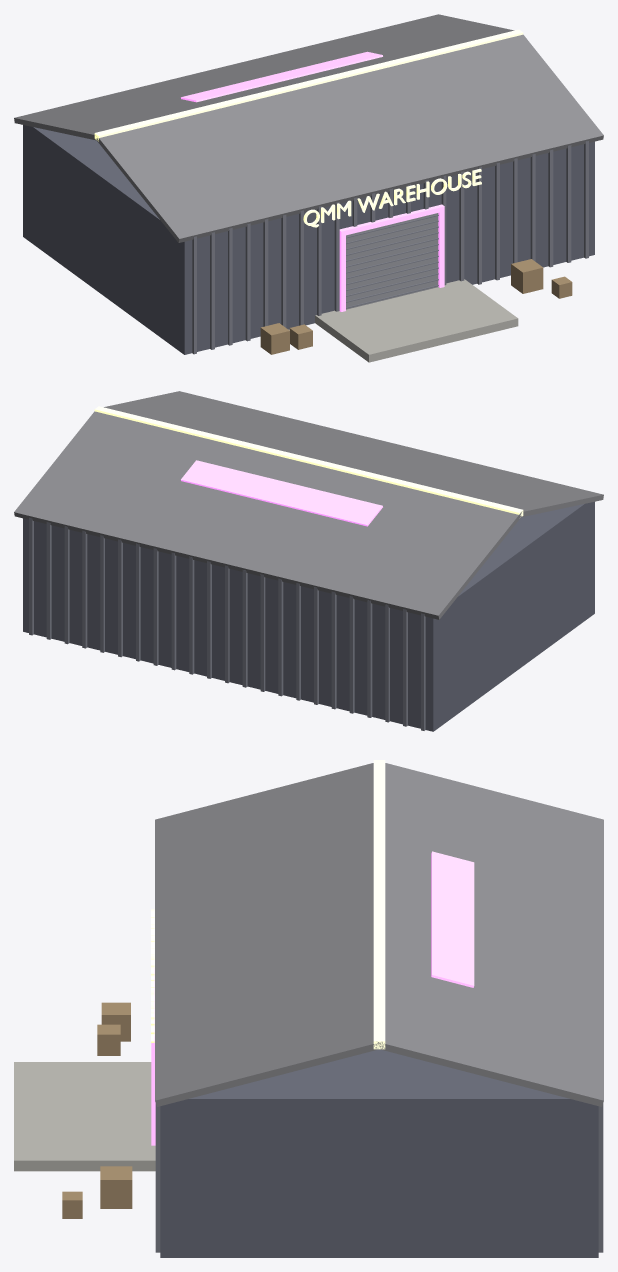
File: qmm_warehouse.glb
3 views of the same model, one above another, from view 1: azimuth 30°, elevation 25°; view 2: azimuth 150°, elevation 25°; view 3: azimuth 270°, elevation 25° (orthographic). The views are drawn at different scales.
Visible parts, largest first — view 1: WhRoof-1, WhBody, WhRoof1, WhDock, WhDoor, WhRidge, WhSkylight, WhSign, WhCrate2, WhFrameTop, WhCrate0, WhRib21-15 (+19 smaller); view 2: WhBody, WhRoof1, WhRoof-1, WhSkylight, WhRidge, WhRib21+15, WhRib5+15, WhRib10+15, WhRib15+15, WhRib20+15, WhRib4+15, WhRib13+15 (+16 smaller); view 3: WhBody, WhRoof-1, WhRoof1, WhDock, WhSkylight, WhRidge, WhCrate2, WhRib22+15, WhRib22-15, WhCrate0, WhCrate1.
Part boxes in pixels (x1=…): WhRoof-1: x1=96, y1=34, x2=603, y2=242; WhBody: x1=23, y1=125, x2=594, y2=354; WhRoof1: x1=14, y1=14, x2=514, y2=140; WhDock: x1=315, y1=279, x2=518, y2=362; WhDoor: x1=346, y1=213, x2=438, y2=309; WhRidge: x1=94, y1=29, x2=523, y2=141; WhSkylight: x1=181, y1=51, x2=382, y2=102; WhSign: x1=303, y1=169, x2=481, y2=227; WhCrate2: x1=511, y1=259, x2=543, y2=293; WhFrameTop: x1=339, y1=204, x2=444, y2=235; WhCrate0: x1=260, y1=323, x2=289, y2=354; WhRib21-15: x1=566, y1=145, x2=571, y2=262; WhBody: x1=23, y1=501, x2=594, y2=731; WhRoof1: x1=14, y1=411, x2=522, y2=619; WhRoof-1: x1=104, y1=391, x2=603, y2=517; WhSkylight: x1=181, y1=460, x2=382, y2=526; WhRidge: x1=94, y1=406, x2=523, y2=517; WhRib21+15: x1=46, y1=522, x2=51, y2=639; WhRib5+15: x1=331, y1=591, x2=336, y2=709; WhRib10+15: x1=242, y1=570, x2=247, y2=687; WhRib15+15: x1=153, y1=548, x2=158, y2=665; WhRib20+15: x1=64, y1=526, x2=69, y2=644; WhRib4+15: x1=349, y1=596, x2=354, y2=713; WhRib13+15: x1=189, y1=556, x2=194, y2=674; WhBody: x1=160, y1=1049, x2=598, y2=1257; WhRoof-1: x1=155, y1=763, x2=383, y2=1106; WhRoof1: x1=375, y1=763, x2=603, y2=1106; WhDock: x1=14, y1=1062, x2=155, y2=1171; WhSkylight: x1=431, y1=851, x2=474, y2=987; WhRidge: x1=373, y1=760, x2=385, y2=1049; WhCrate2: x1=100, y1=1166, x2=132, y2=1208; WhRib22+15: x1=598, y1=1103, x2=603, y2=1252; WhRib22-15: x1=155, y1=1103, x2=160, y2=1252; WhCrate0: x1=101, y1=1002, x2=130, y2=1041; WhCrate1: x1=97, y1=1024, x2=120, y2=1055.
Size of the model in its own units: 45.5 by 16.7 by 40.36.
